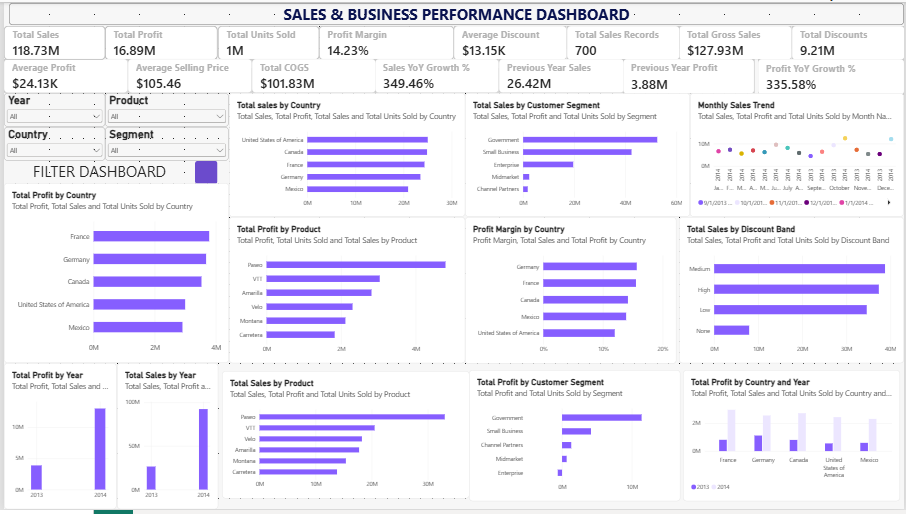

This screenshot's page, from the dashboard's own definition file:
{"tool":"powerbi","page":{"name":"Sales Overview","canvas":[1920,1080],"ordinal":0},"visuals":[{"type":"textbox","box":[10.6,0,1909.1,46.8],"z":0},{"type":"cardVisual","fields":{"Data":["financials.Total Profit"]},"box":[216,48,240,72],"z":1000},{"type":"cardVisual","fields":{"Data":["financials.Total Units Sold"]},"box":[456,48,216,72],"z":2000},{"type":"cardVisual","fields":{"Data":["financials.Profit Margin"]},"box":[672,48,288,72],"z":3000},{"type":"cardVisual","fields":{"Data":["financials.Total Discounts"]},"box":[1680,48,240,72],"z":4000},{"type":"cardVisual","fields":{"Data":["financials.Total COGS"]},"box":[528,120,264,72],"z":5000},{"type":"cardVisual","fields":{"Data":["financials.Average Selling Price"]},"box":[264,120,264,72],"z":6000},{"type":"cardVisual","fields":{"Data":["financials.Total Gross Sales"]},"box":[1440,48,240,72],"z":7000},{"type":"cardVisual","fields":{"Data":["financials.Average Profit"]},"box":[0,120,264,72],"z":8000},{"type":"cardVisual","fields":{"Data":["financials.Average Discount"]},"box":[960,48,240,72],"z":9000},{"type":"cardVisual","fields":{"Data":["financials.Total Sales Records"]},"box":[1200,48,240,72],"z":10000},{"type":"cardVisual","fields":{"Data":["financials.Previous Year Sales"]},"box":[1056,120,267.9,72.3],"z":11000},{"type":"cardVisual","fields":{"Data":["financials.Sales YoY Growth %"]},"box":[792,120,264,72],"z":12000},{"type":"cardVisual","fields":{"Data":["financials.Previous Year Profit"]},"box":[1320,120,280.6,74.4],"z":13000},{"type":"cardVisual","fields":{"Data":["financials.Profit YoY Growth %"]},"box":[1608,120,312.5,76.5],"z":14000},{"type":"clusteredBarChart","title":"Total sales by Country","fields":{"Category":["financials.Country"],"Y":["financials.Total Sales"]},"box":[480,192,504,264],"z":15000},{"type":"clusteredBarChart","title":"Total Sales by Product","fields":{"Category":["financials.Product"],"Y":["financials.Total Sales"]},"box":[464,784,528,272],"z":16000},{"type":"clusteredBarChart","title":"Total Sales by Customer Segment","fields":{"Category":["financials.Segment"],"Y":["financials.Total Sales"]},"box":[984,192,480,264],"z":17000},{"type":"lineChart","title":"Monthly Sales Trend","fields":{"Category":["DateTable.Month Name","DateTable.Year"],"Series":["DateTable.Date"],"Y":["financials.Total Sales"]},"box":[1464,192,456,264],"z":18000},{"type":"clusteredBarChart","title":"Total Profit by Country","fields":{"Category":["financials.Country"],"Y":["financials.Total Profit"]},"box":[0,384,480,384],"z":19000},{"type":"clusteredBarChart","title":"Total Profit by Product","fields":{"Category":["financials.Product"],"Y":["financials.Total Profit"]},"box":[480,456,504,312],"z":20000},{"type":"clusteredBarChart","title":"Profit Margin by Country","fields":{"Category":["financials.Country"],"Y":["financials.Profit Margin"]},"box":[984,456,450.7,312.5],"z":21000},{"type":"clusteredBarChart","title":"Total Sales by Discount Band","fields":{"Category":["financials.Discount Band"],"Y":["financials.Total Sales"]},"box":[1440,456,480,312],"z":22000},{"type":"clusteredColumnChart","title":"Total Sales by Year","fields":{"Category":["financials.Year"],"Y":["financials.Total Sales"]},"box":[240,768,216,312],"z":23000},{"type":"clusteredColumnChart","title":"Total Profit by Year","fields":{"Category":["DateTable.Year"],"Y":["financials.Total Profit"]},"box":[0,768,240,312],"z":24000},{"type":"clusteredBarChart","title":"Total Profit by Customer Segment","fields":{"Category":["financials.Segment"],"Y":["financials.Total Profit"]},"box":[993,783,451,280],"z":25000},{"type":"clusteredColumnChart","title":"Total Profit by Country and Year","fields":{"Category":["financials.Country"],"Series":["DateTable.Year"],"Y":["financials.Total Profit"]},"box":[1448,783,463,280],"z":26000},{"type":"cardVisual","fields":{"Data":["financials.Total Sales"]},"box":[0,48,216,72],"z":27000},{"type":"slicer","fields":{"Values":["DateTable.Year"]},"box":[0,192,216,72],"z":27001},{"type":"slicer","fields":{"Values":["financials.Country"]},"box":[0,264,216,72],"z":27002},{"type":"slicer","fields":{"Values":["financials.Product"]},"box":[216,192,264,72],"z":27003},{"type":"slicer","fields":{"Values":["financials.Segment"]},"box":[216,264,264,72],"z":27004},{"type":"textbox","box":[0,336,408,48],"z":27005},{"type":"actionButton","box":[408,336,48,48],"z":27006}]}

Visuals, with their boxes in screenshot pixels (x1, y1, x2, y2), scaled from the page's 1920x1080 canvas onto the 906x514 screenshot:
textbox: rect(5, 0, 905, 22)
cardVisual - financials.Total Profit: rect(102, 23, 215, 57)
cardVisual - financials.Total Units Sold: rect(215, 23, 317, 57)
cardVisual - financials.Profit Margin: rect(317, 23, 453, 57)
cardVisual - financials.Total Discounts: rect(793, 23, 905, 57)
cardVisual - financials.Total COGS: rect(249, 57, 374, 91)
cardVisual - financials.Average Selling Price: rect(125, 57, 249, 91)
cardVisual - financials.Total Gross Sales: rect(680, 23, 793, 57)
cardVisual - financials.Average Profit: rect(0, 57, 125, 91)
cardVisual - financials.Average Discount: rect(453, 23, 566, 57)
cardVisual - financials.Total Sales Records: rect(566, 23, 680, 57)
cardVisual - financials.Previous Year Sales: rect(498, 57, 625, 92)
cardVisual - financials.Sales YoY Growth %: rect(374, 57, 498, 91)
cardVisual - financials.Previous Year Profit: rect(623, 57, 755, 93)
cardVisual - financials.Profit YoY Growth %: rect(759, 57, 905, 94)
"Total sales by Country" clusteredBarChart: rect(226, 91, 464, 217)
"Total Sales by Product" clusteredBarChart: rect(219, 373, 468, 503)
"Total Sales by Customer Segment" clusteredBarChart: rect(464, 91, 691, 217)
"Monthly Sales Trend" lineChart: rect(691, 91, 905, 217)
"Total Profit by Country" clusteredBarChart: rect(0, 183, 226, 366)
"Total Profit by Product" clusteredBarChart: rect(226, 217, 464, 366)
"Profit Margin by Country" clusteredBarChart: rect(464, 217, 677, 366)
"Total Sales by Discount Band" clusteredBarChart: rect(680, 217, 905, 366)
"Total Sales by Year" clusteredColumnChart: rect(113, 366, 215, 513)
"Total Profit by Year" clusteredColumnChart: rect(0, 366, 113, 513)
"Total Profit by Customer Segment" clusteredBarChart: rect(469, 373, 681, 506)
"Total Profit by Country and Year" clusteredColumnChart: rect(683, 373, 902, 506)
cardVisual - financials.Total Sales: rect(0, 23, 102, 57)
slicer - DateTable.Year: rect(0, 91, 102, 126)
slicer - financials.Country: rect(0, 126, 102, 160)
slicer - financials.Product: rect(102, 91, 226, 126)
slicer - financials.Segment: rect(102, 126, 226, 160)
textbox: rect(0, 160, 193, 183)
actionButton: rect(193, 160, 215, 183)
